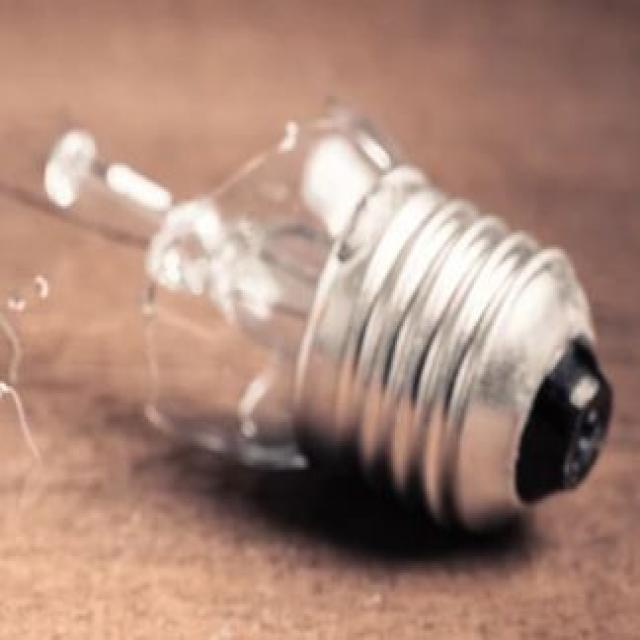electronic: (41, 98, 614, 537)
